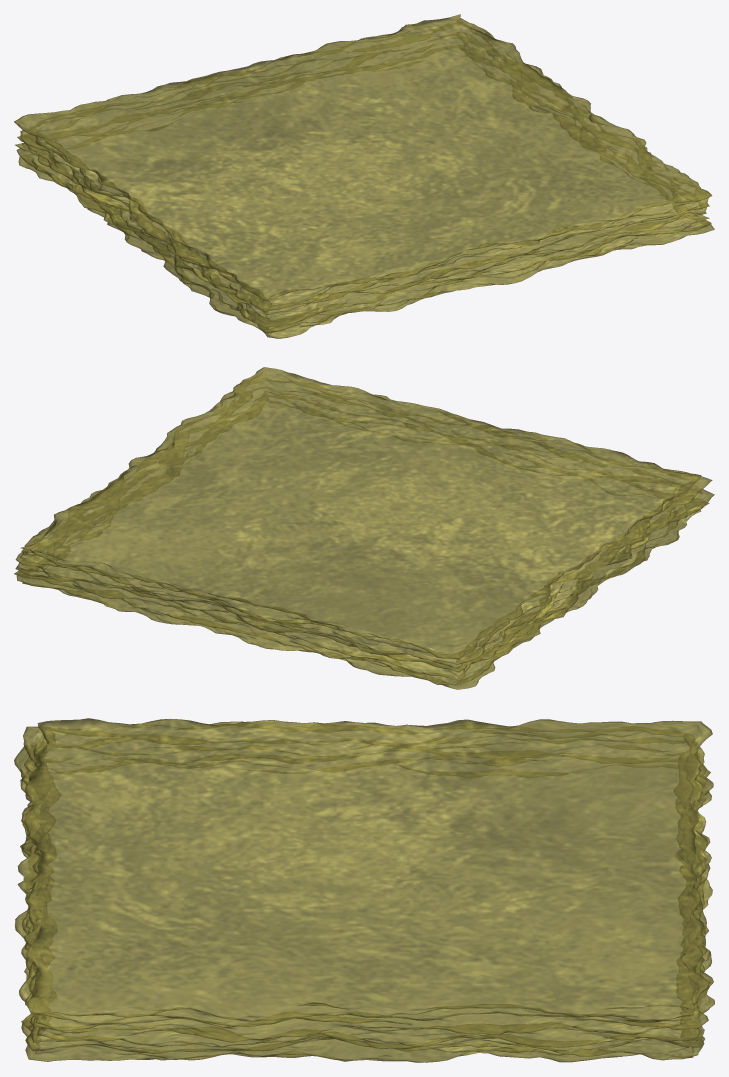
The model's file is contaminada.fbx.
3 renders of one model, top to bottom at view 1: azimuth 30°, elevation 25°; view 2: azimuth 150°, elevation 25°; view 3: azimuth 270°, elevation 25°, orthographic. The views are drawn at different scales.
Visible parts, largest first — view 1: Cube_4; view 2: Cube_4; view 3: Cube_4.
Part boxes in pixels (left/top/right/bottom): Cube_4: left=14, top=14, right=714, bottom=338; Cube_4: left=14, top=367, right=714, bottom=689; Cube_4: left=14, top=718, right=714, bottom=1062.
Size of the model in its own units: 1216 by 95.89 by 1172.
Materials: 1 (1 with a texture image).
